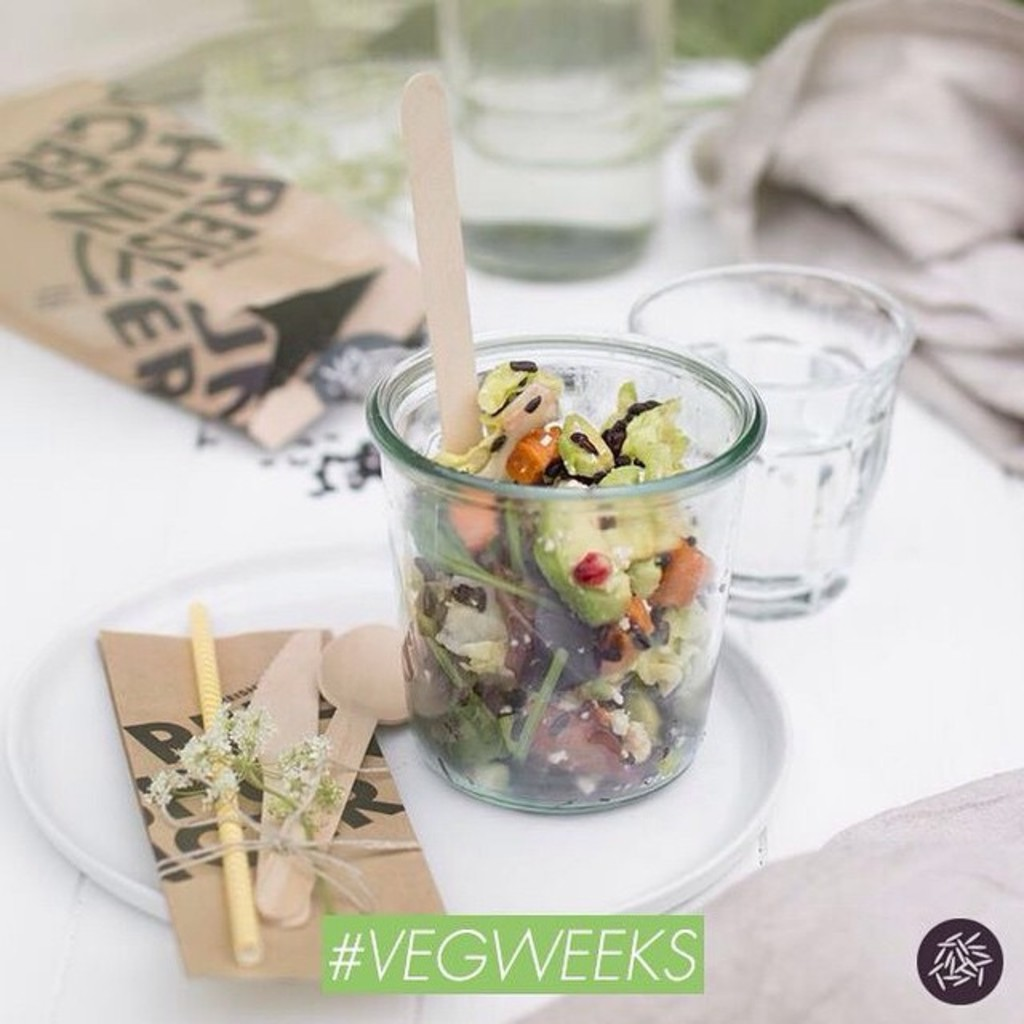salad: (378, 320, 766, 802)
